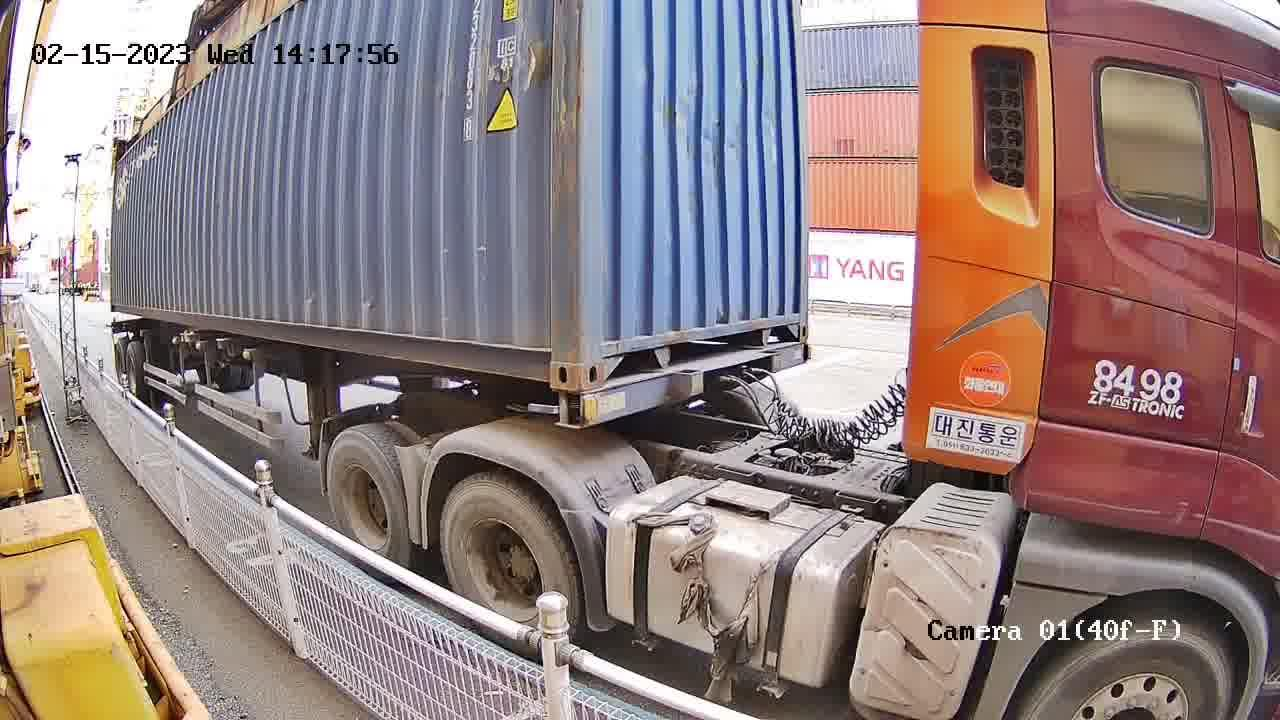Chassis: (583, 342, 807, 427)
Cone: (548, 392, 588, 426)
Hole_L: (583, 303, 638, 385)
Hole_R: (506, 310, 579, 388), (764, 289, 811, 349)
Tire: (438, 478, 576, 618), (331, 434, 403, 566)
